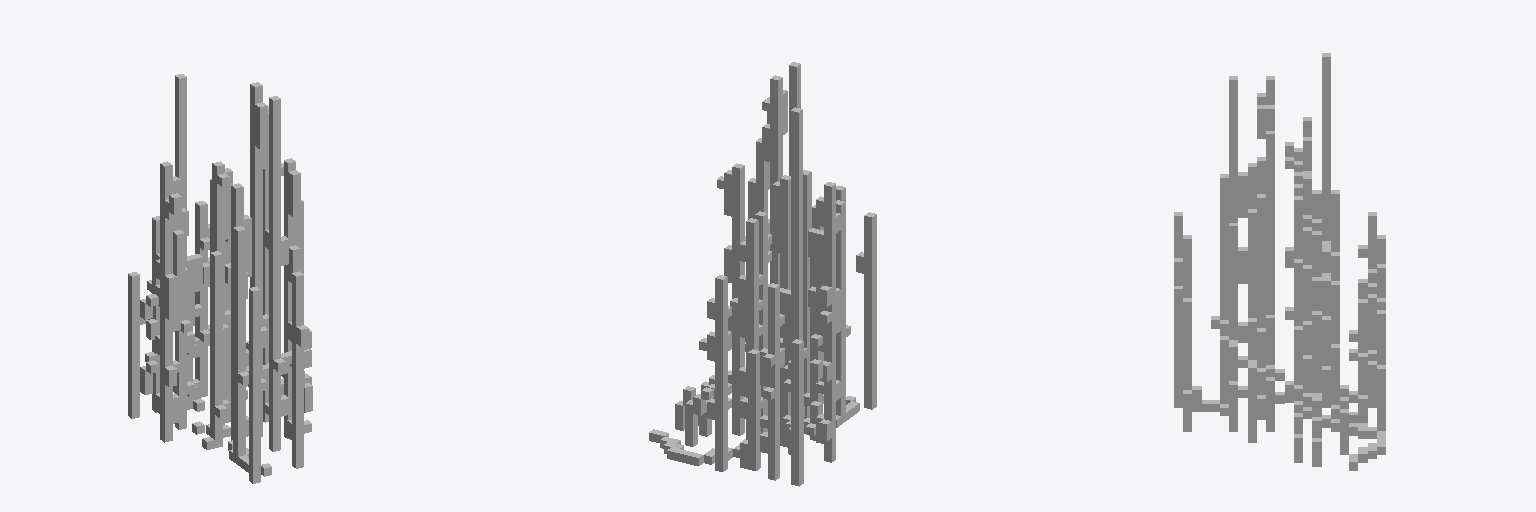
File: tiles 0 morceau 1.obj
The picture shows the model from 3 angles: view 1: azimuth 30°, elevation 25°; view 2: azimuth 150°, elevation 25°; view 3: azimuth 270°, elevation 25°; orthographic projection.
Parts seen in each view (by area): view 1: tiles 0 morceau 1; view 2: tiles 0 morceau 1; view 3: tiles 0 morceau 1.
Boxes of the visible parts, x1=… form: tiles 0 morceau 1: x1=128, y1=74, x2=312, y2=483; tiles 0 morceau 1: x1=649, y1=62, x2=876, y2=486; tiles 0 morceau 1: x1=1174, y1=53, x2=1385, y2=470.
Size of the model in its own units: 20 by 42 by 23.